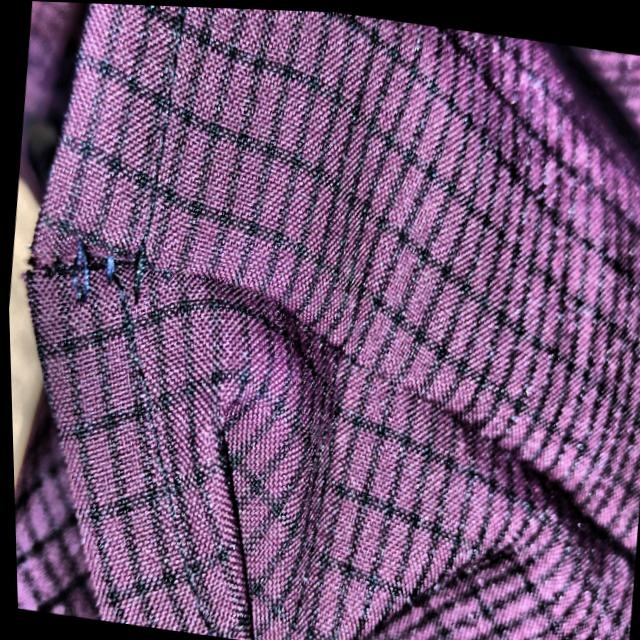Stitch: (43, 202, 175, 339)
